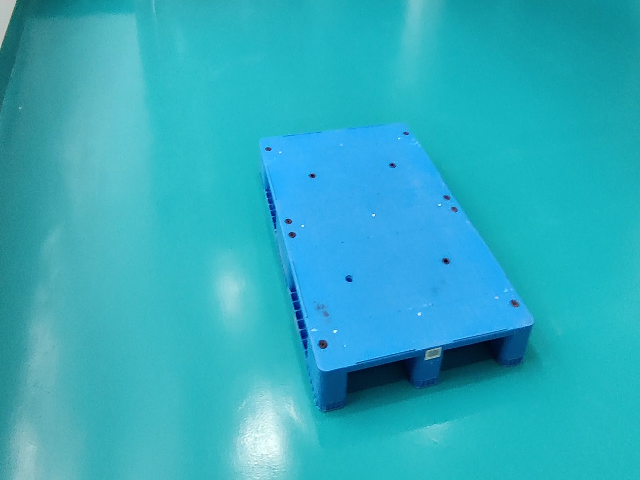block: (305, 334, 351, 407), (412, 343, 447, 385), (273, 223, 291, 292), (504, 326, 535, 366), (261, 147, 268, 186)
front: (322, 324, 531, 409)
hole pallet: (346, 358, 414, 398), (441, 338, 508, 378)
